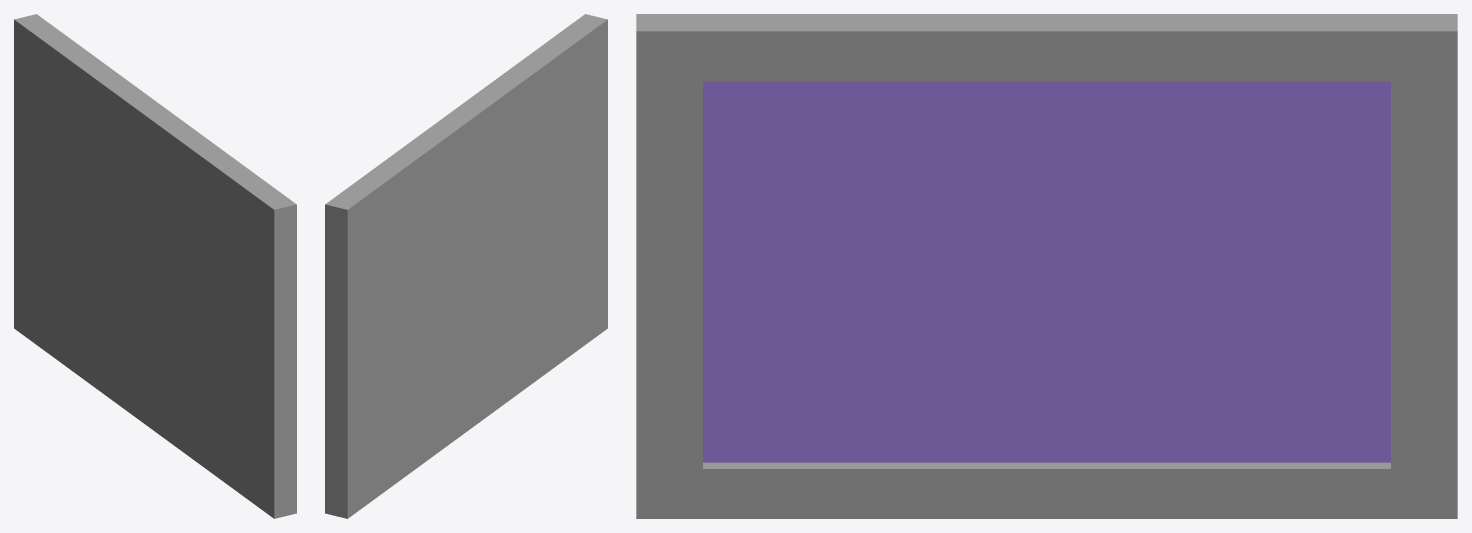
Rendered from tableau3.fbx.
3 views of the same model, side by side, from view 1: azimuth 30°, elevation 25°; view 2: azimuth 150°, elevation 25°; view 3: azimuth 270°, elevation 25° (orthographic). The views are drawn at different scales.
Visible parts, largest first — view 1: tableau3; view 2: tableau3; view 3: tableau3.
Boxes of the visible parts, x1,y1,x2,y2 form: tableau3: (14,14,296,518); tableau3: (325,14,607,518); tableau3: (636,14,1457,518).
Bounding box in the file's own units: 3.92 × 51.44 × 78.5.
